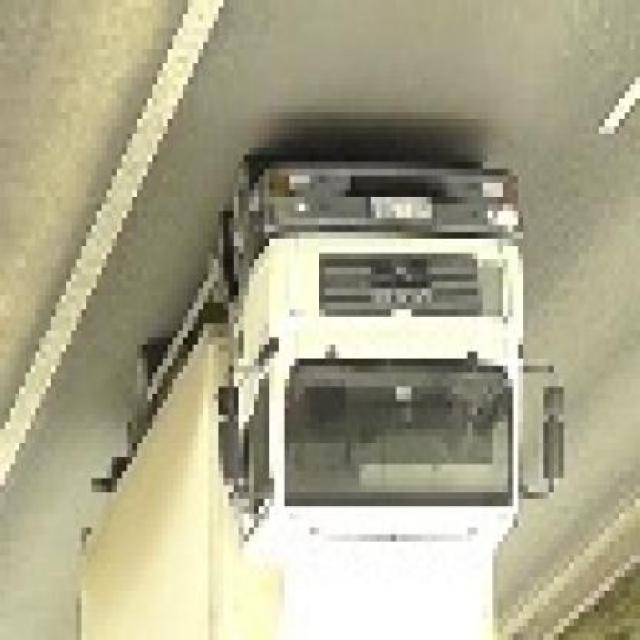truck: (83, 141, 570, 640)
